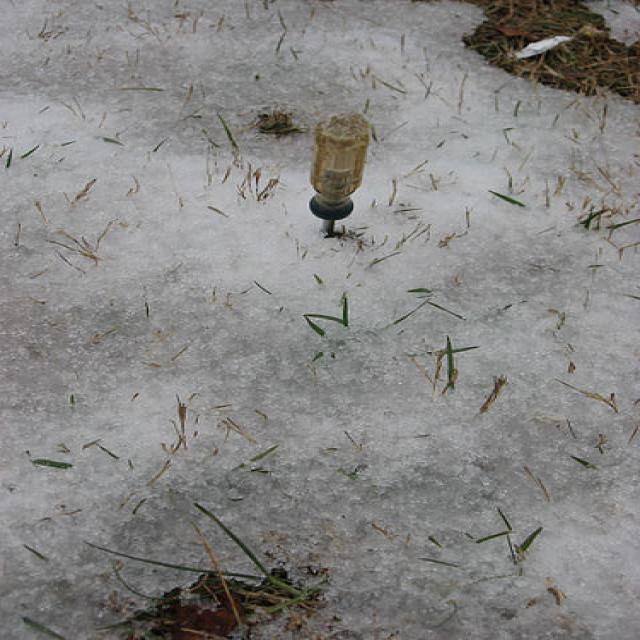screwdriver: (289, 106, 391, 256)
